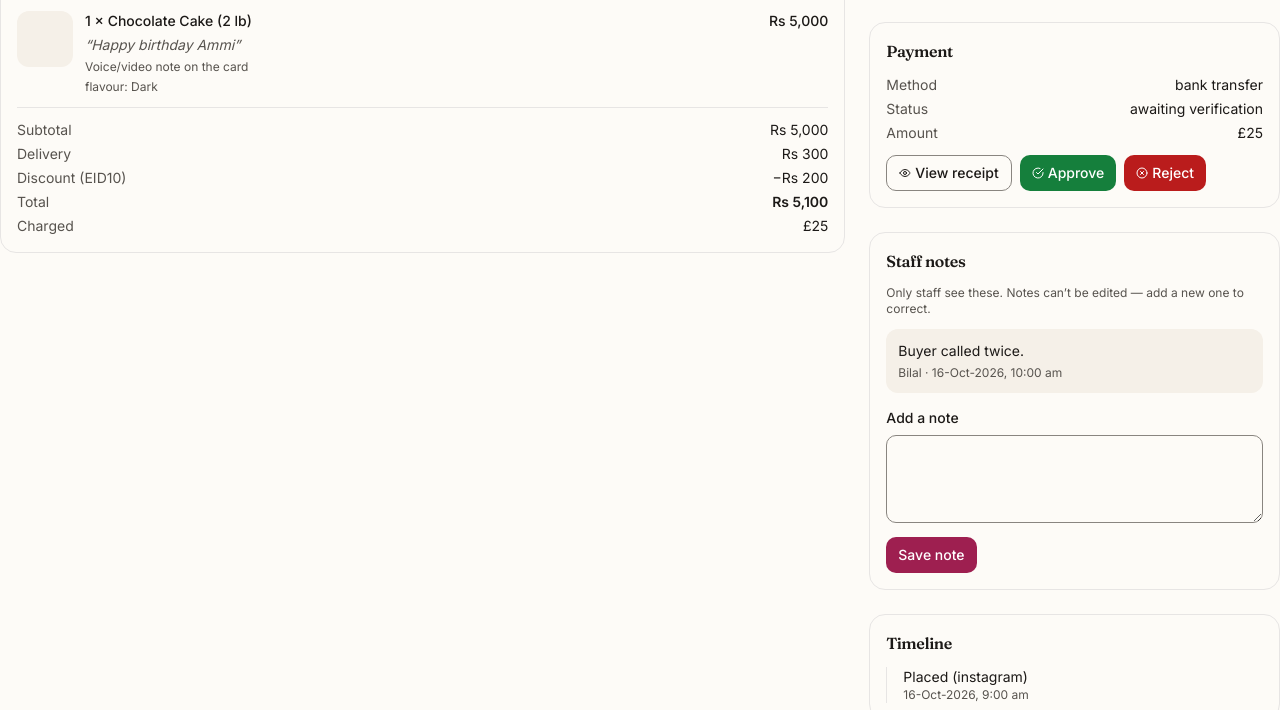
OrderDetail › won't save an empty note
This screenshot has width=1280, height=710.
(page scrolled)
Click the button "Save note" at point(931, 555), box [886,537,977,573]
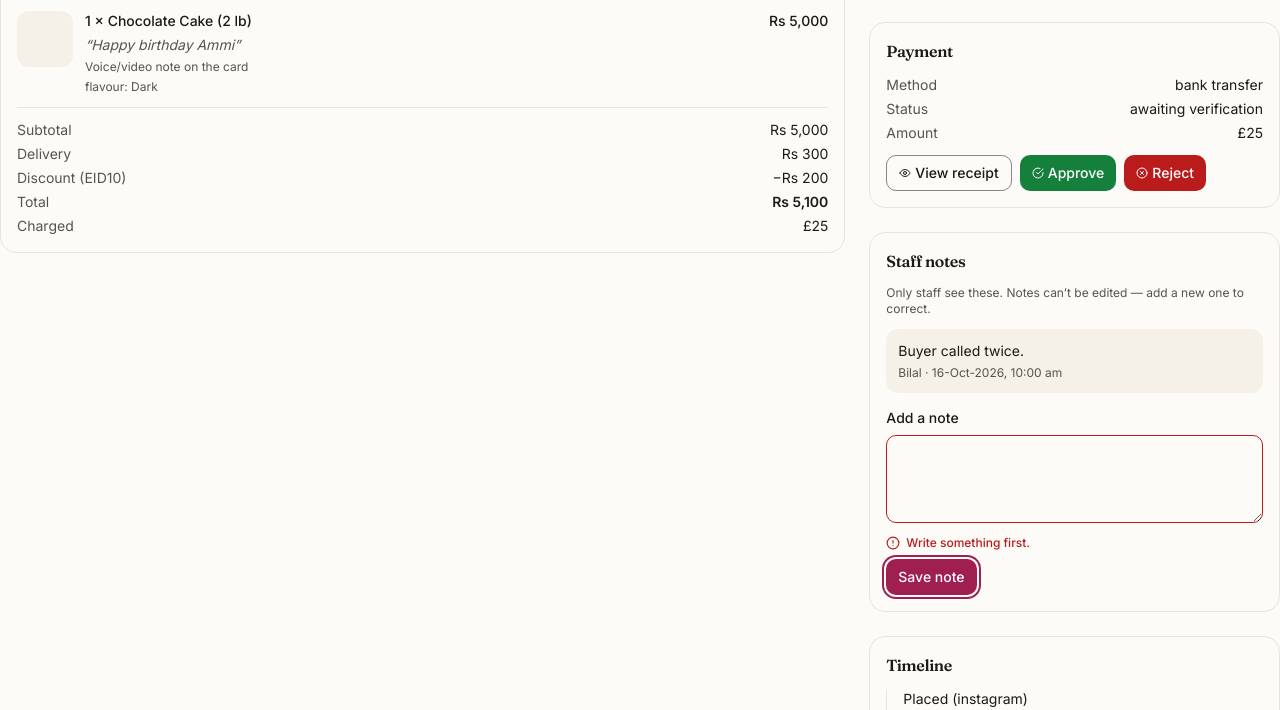
Expected: the text "Write something first." is shown, [886,535,1030,550]
